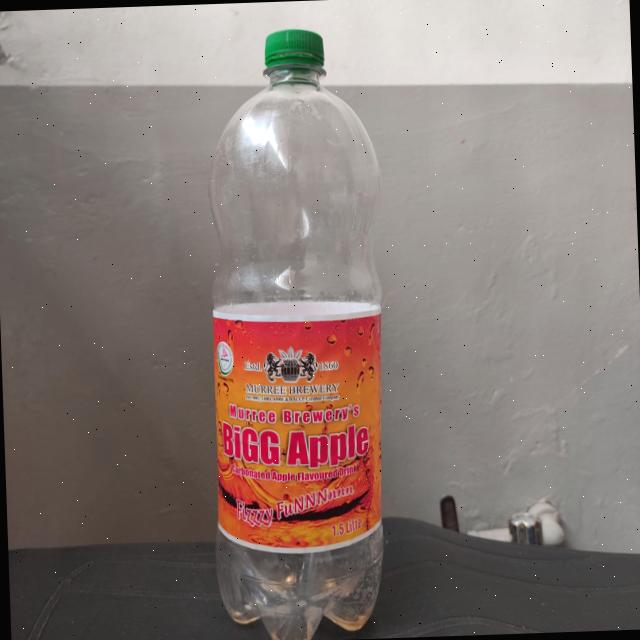bottle: (191, 19, 403, 640)
cap: (264, 30, 332, 84)
label: (212, 308, 398, 548)
